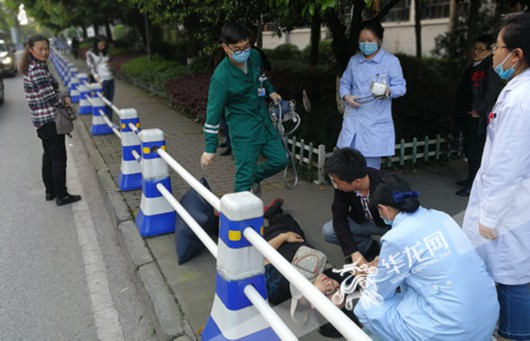fall: (234, 187, 350, 330)
